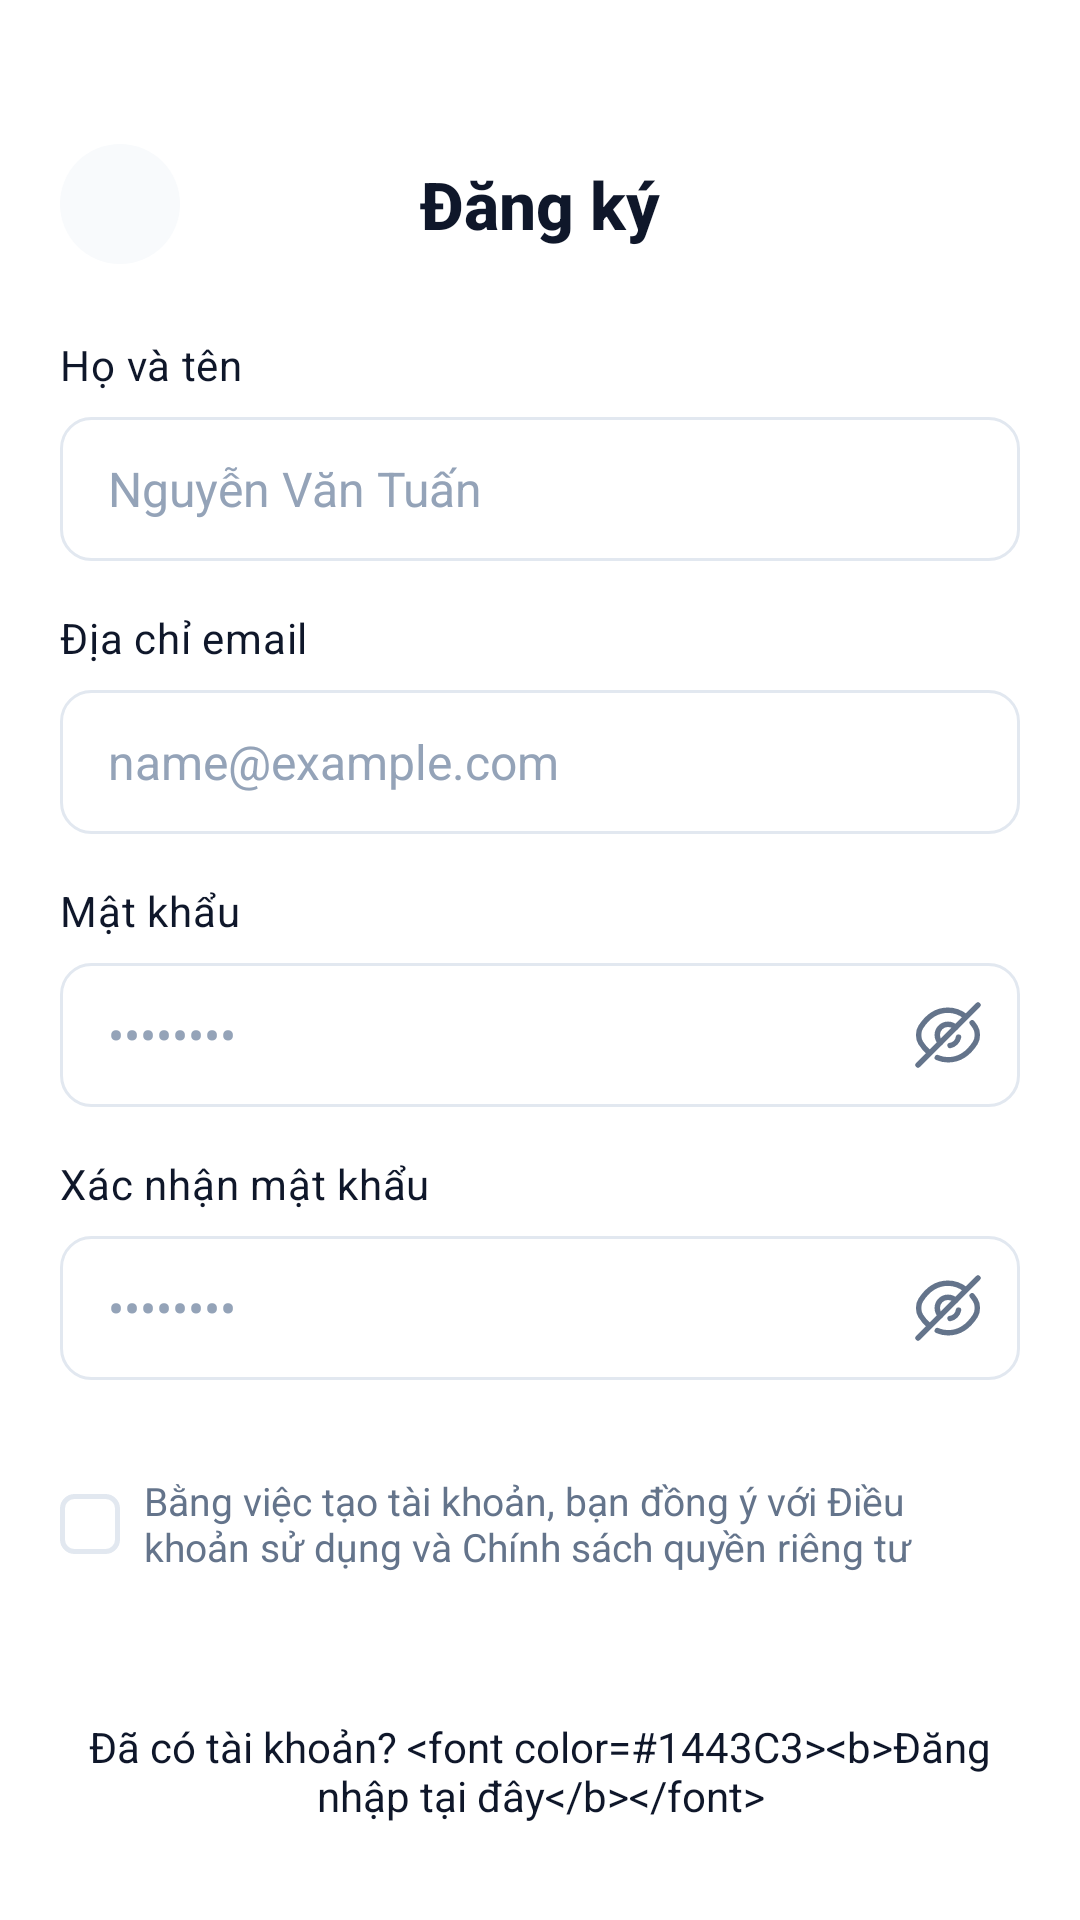

Named icons in this screenshot (1080×1920) and their bounding boxes, (left=x1, top=y1, right=x2, bottom=y2):
Ẩn/hiện mật khẩu: (left=915, top=1002, right=981, bottom=1068), (left=915, top=1275, right=981, bottom=1341)
